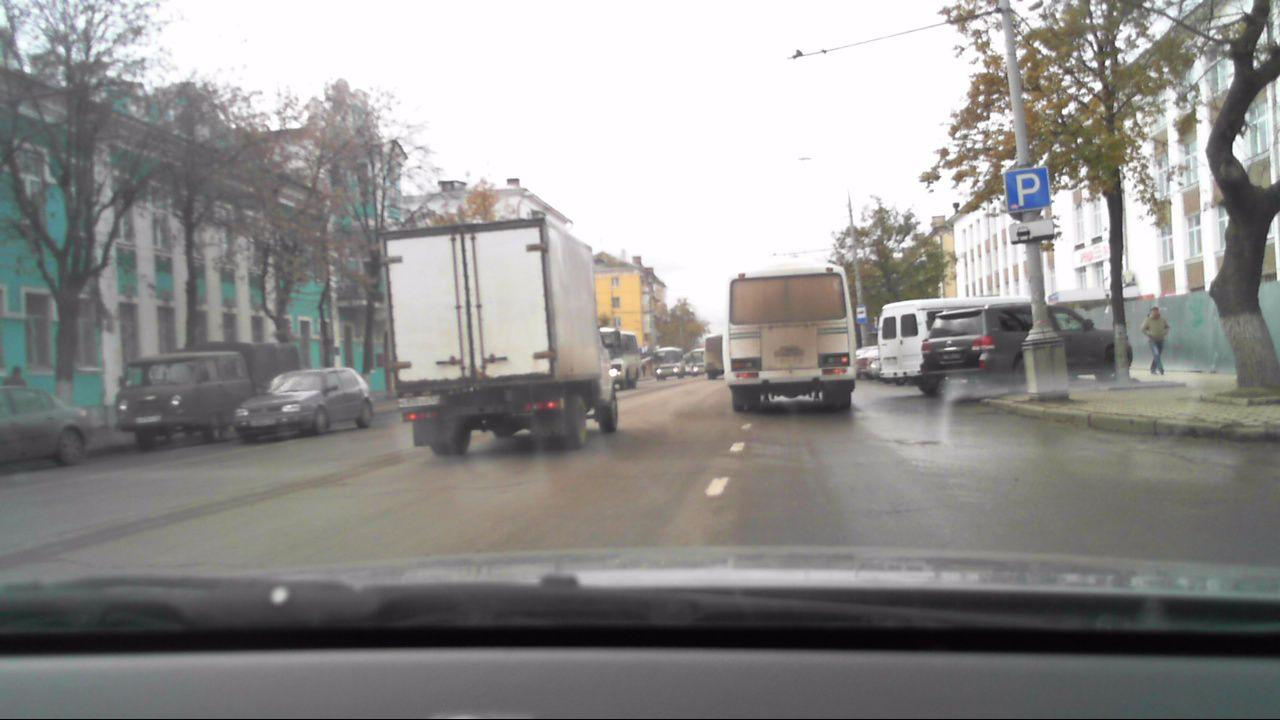6_4: (1003, 163, 1050, 211)
8_6_1: (1009, 217, 1052, 241)
